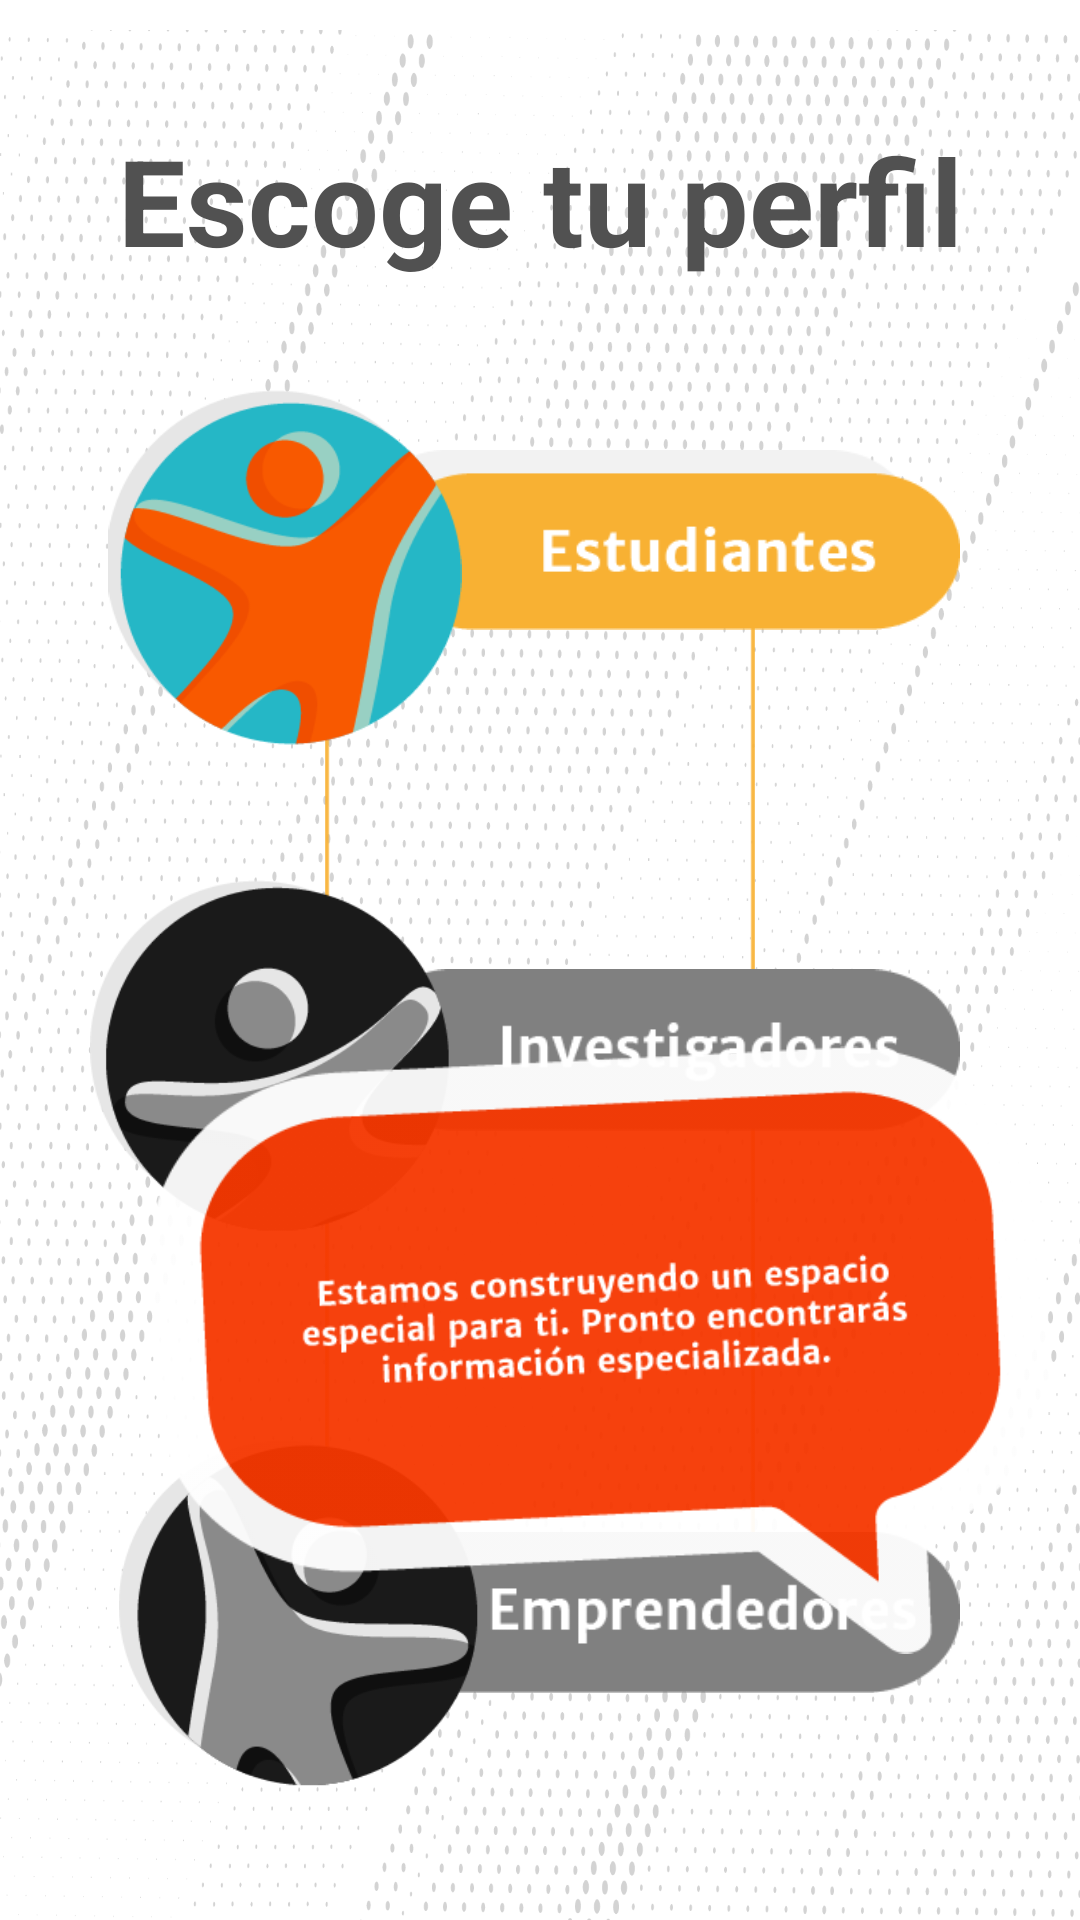

Point at icon controls on the screen. Image size 1080x1920, points as (x=x, y=y).
estudiantes: (x=285, y=570)
